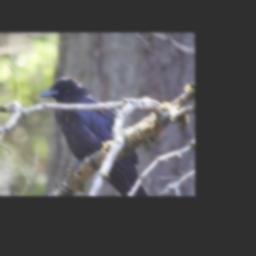Crow: (41, 77, 148, 196)
